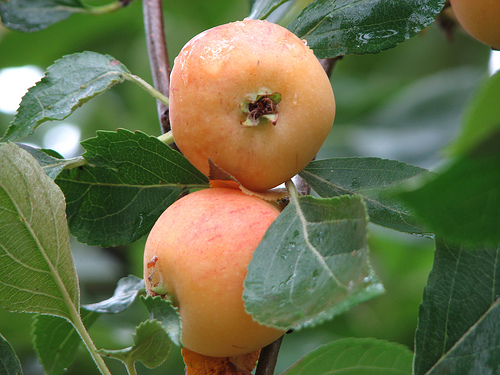apple: (162, 16, 340, 190), (141, 185, 319, 359)
